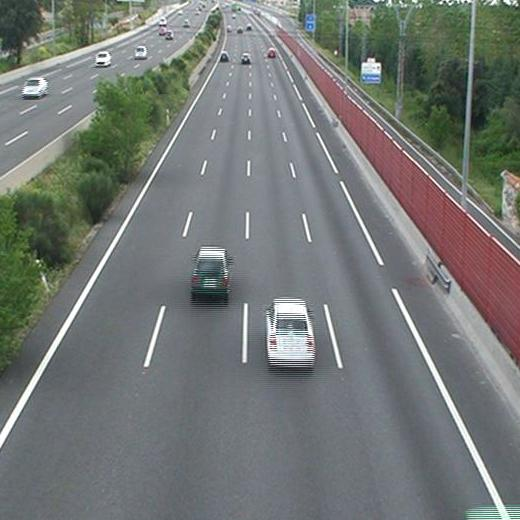car: (266, 298, 316, 366), (190, 247, 229, 295), (241, 53, 250, 63), (219, 53, 229, 61), (268, 48, 275, 57)
